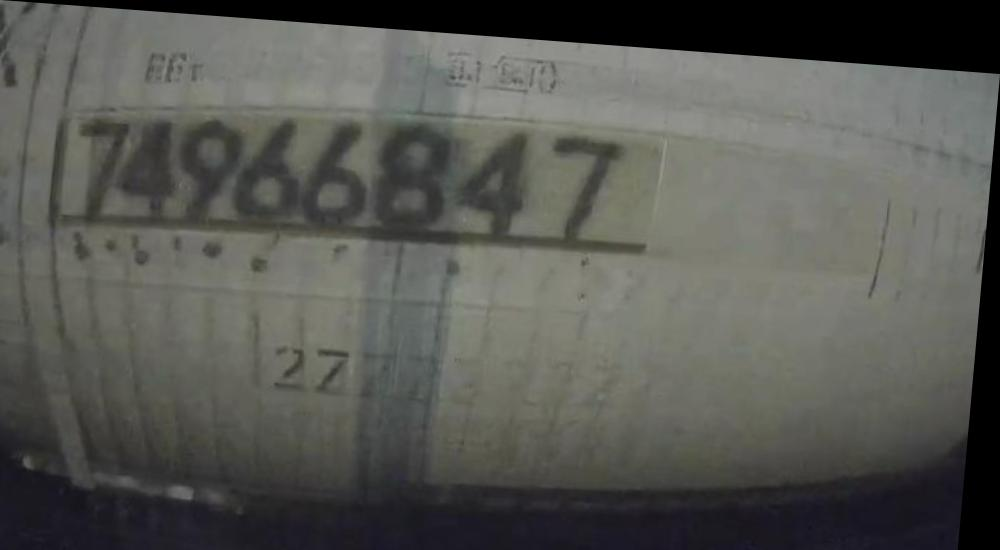Wagon-number: (65, 90, 638, 252)
